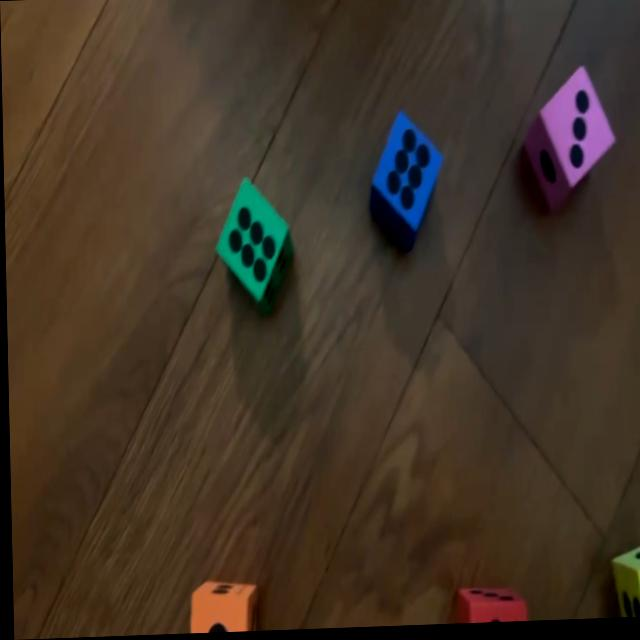blue_block: (362, 111, 444, 249)
red_block: (455, 586, 524, 627)
